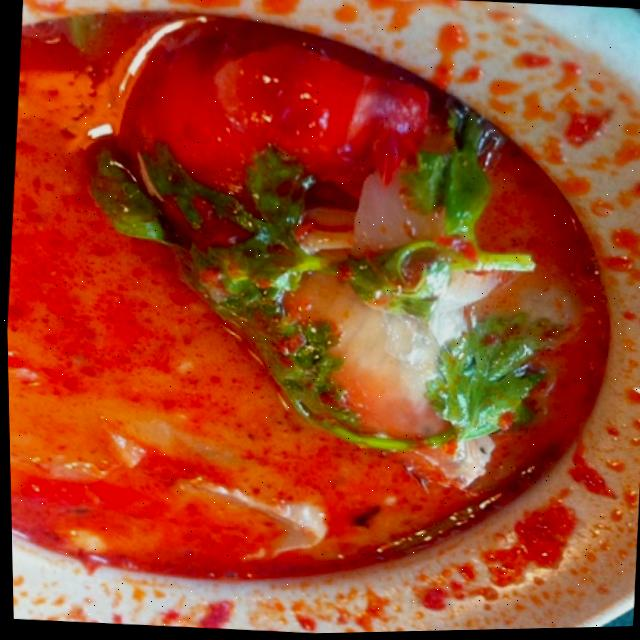汤锅炖物: (0, 3, 574, 597)
